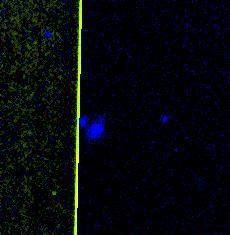star: (36, 175, 66, 205)
